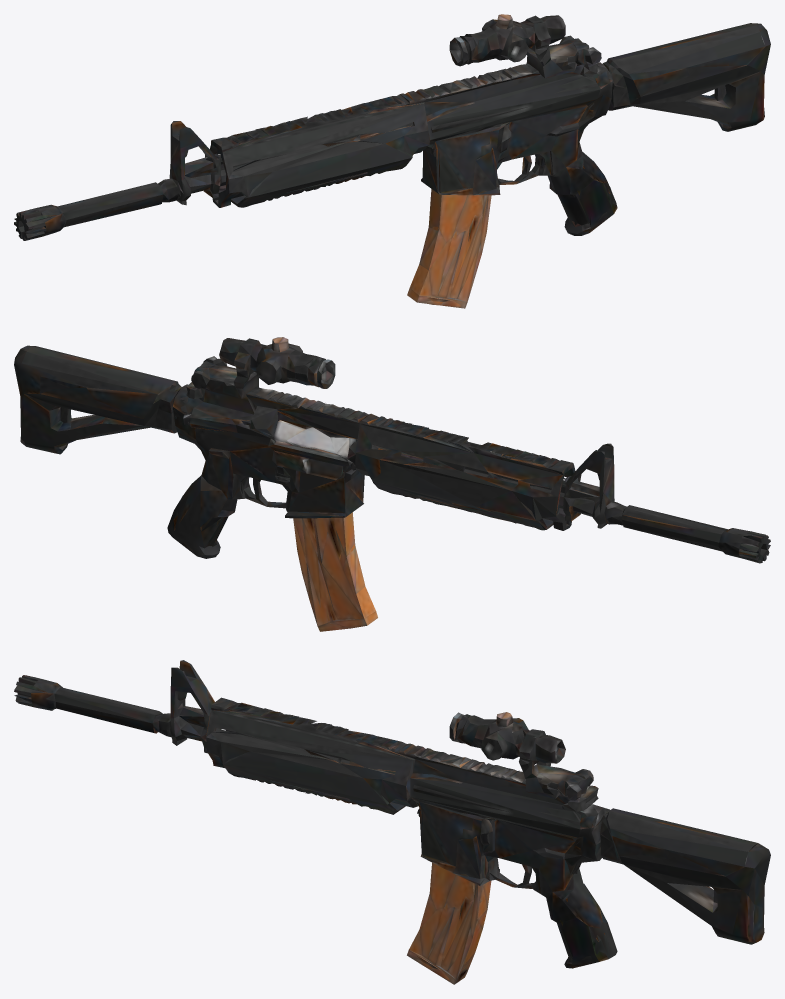
The model's file is rifle.glb.
3 renders of one model, top to bottom at view 1: azimuth 30°, elevation 25°; view 2: azimuth 150°, elevation 25°; view 3: azimuth 330°, elevation 25°, orthographic.
Size of the model in its own units: 1.9 by 0.6751 by 0.1319.
Materials: 1 (1 with a texture image).
